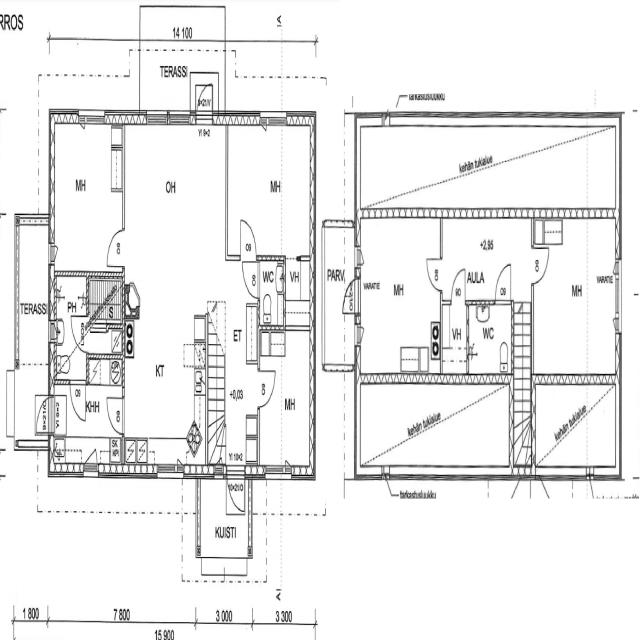door: (258, 326, 314, 472), (444, 215, 531, 302), (492, 258, 514, 305), (227, 464, 246, 516), (530, 242, 551, 286), (238, 214, 258, 260), (105, 223, 125, 267), (256, 364, 276, 408), (104, 390, 124, 433), (241, 254, 259, 300), (424, 252, 442, 292), (196, 79, 213, 120), (450, 263, 467, 303), (70, 379, 86, 421), (34, 396, 50, 434), (342, 277, 359, 312), (70, 314, 85, 348), (47, 238, 59, 264)
window: (612, 250, 624, 333), (79, 106, 107, 127), (156, 459, 181, 481), (261, 108, 287, 129), (264, 462, 292, 481), (168, 106, 192, 128), (145, 105, 169, 126), (82, 457, 100, 478), (354, 316, 363, 348), (212, 462, 225, 480), (354, 243, 362, 271)
zone: (123, 119, 226, 294), (532, 214, 620, 380), (122, 302, 206, 468), (358, 213, 441, 379), (228, 123, 315, 256), (52, 121, 124, 274), (258, 325, 314, 474), (443, 213, 533, 299), (52, 384, 122, 469), (322, 218, 356, 368), (467, 300, 512, 377), (86, 350, 123, 424), (279, 255, 313, 330), (54, 273, 87, 342), (52, 324, 87, 389), (441, 300, 468, 378), (88, 271, 123, 325), (86, 320, 123, 370), (260, 255, 284, 325), (67, 378, 87, 425)
